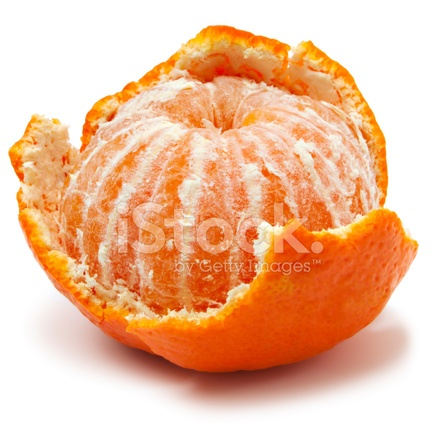mandarin: (63, 75, 390, 357)
